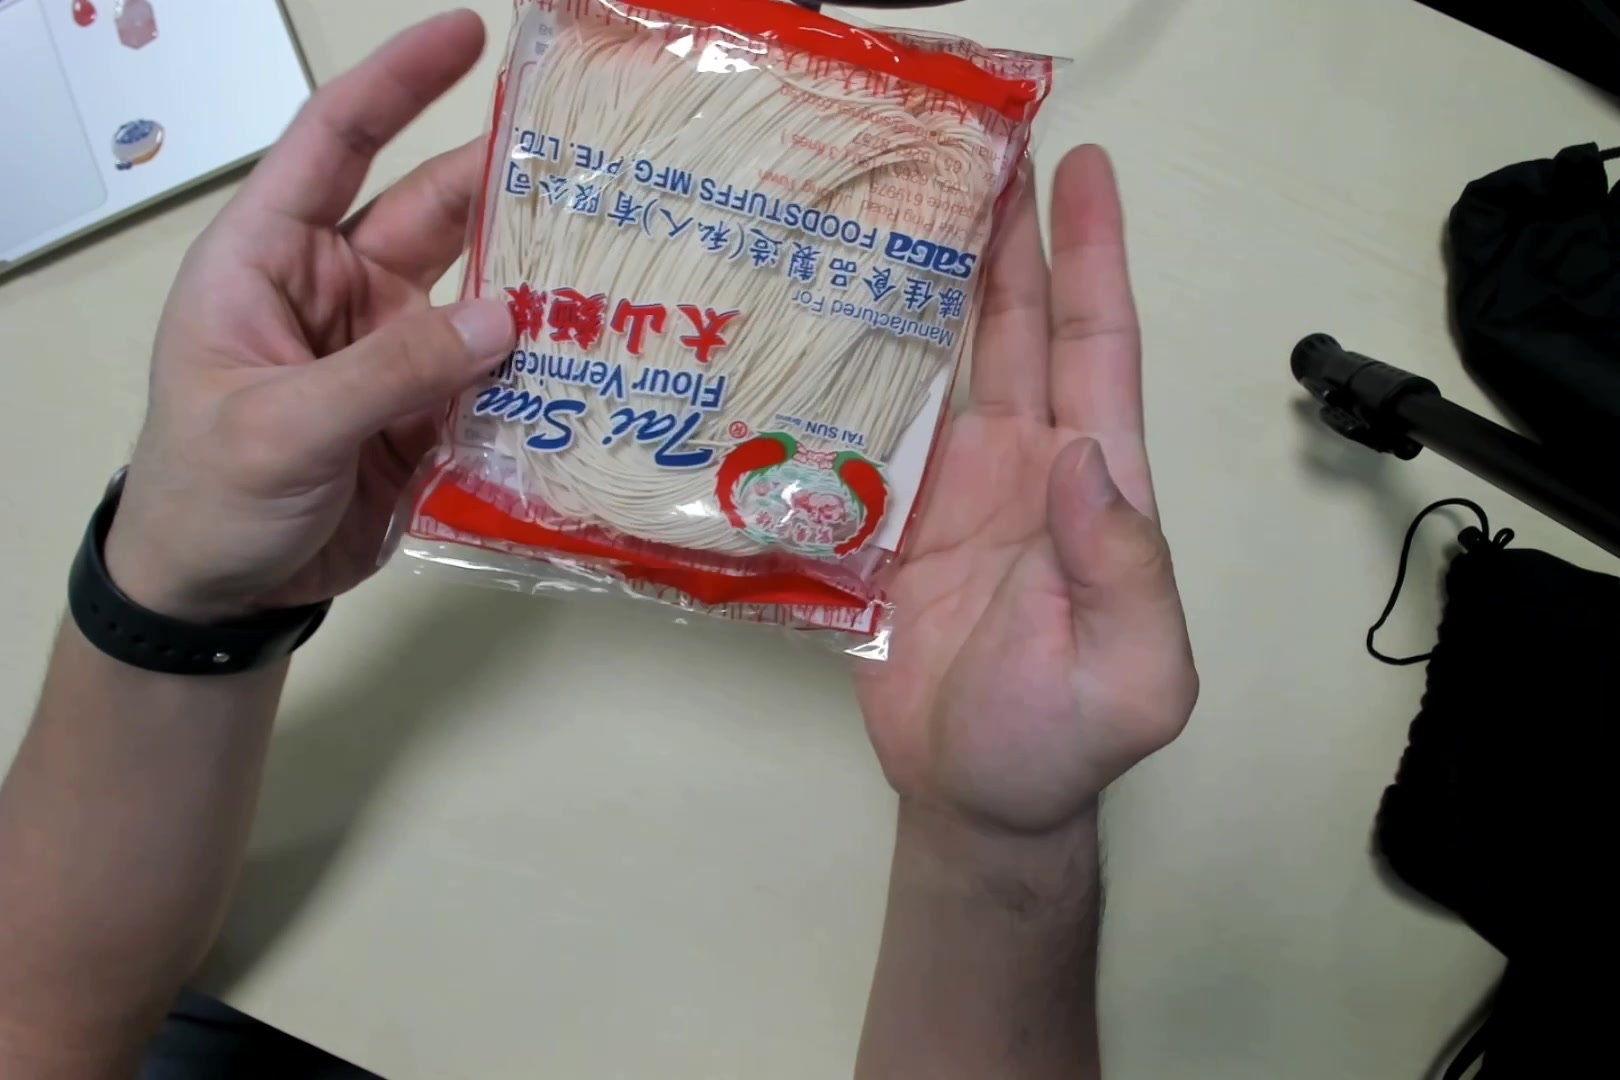BeeHoonVermicelli_100-199g_Halal_NonHealthy: (429, 1, 1055, 651)
